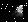person: (13, 7, 23, 21)
